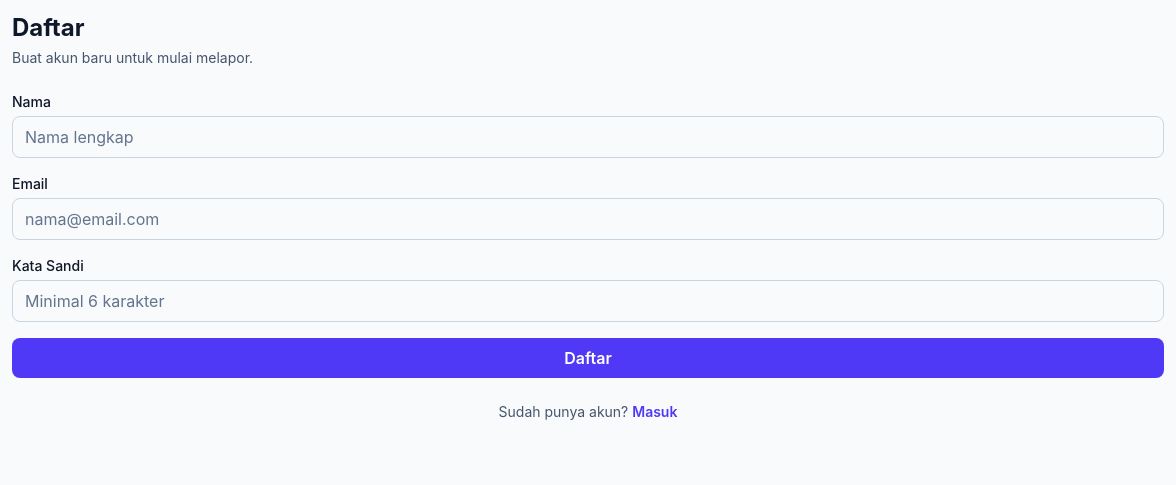
Test case: RegisterPage › menampilkan pesan error jika email tidak valid dan kata sandi terlalu pendek
Type "Budi" into the field labelled "Nama" at x=588, y=137, box [12,116,1164,158]
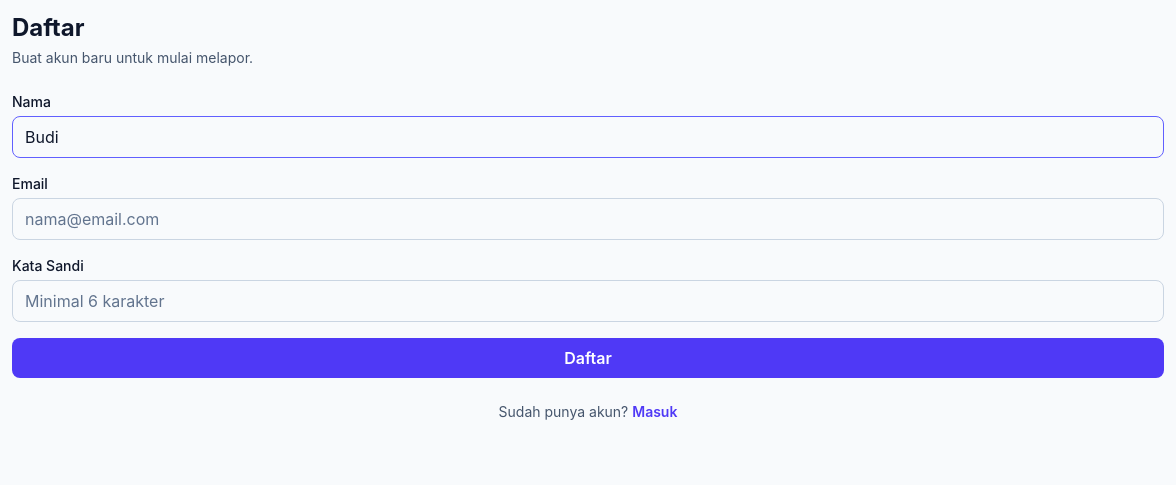
Type "bukan-email" into the field labelled "Email" at x=588, y=219, box [12,198,1164,240]
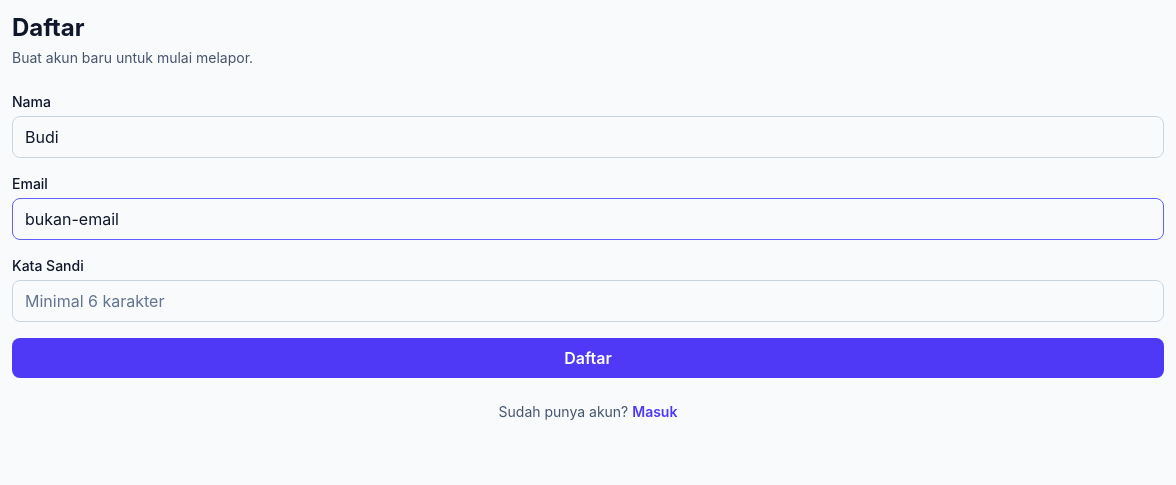
Type "123" into the password field labelled "Kata Sandi" at x=588, y=301, box [12,280,1164,322]
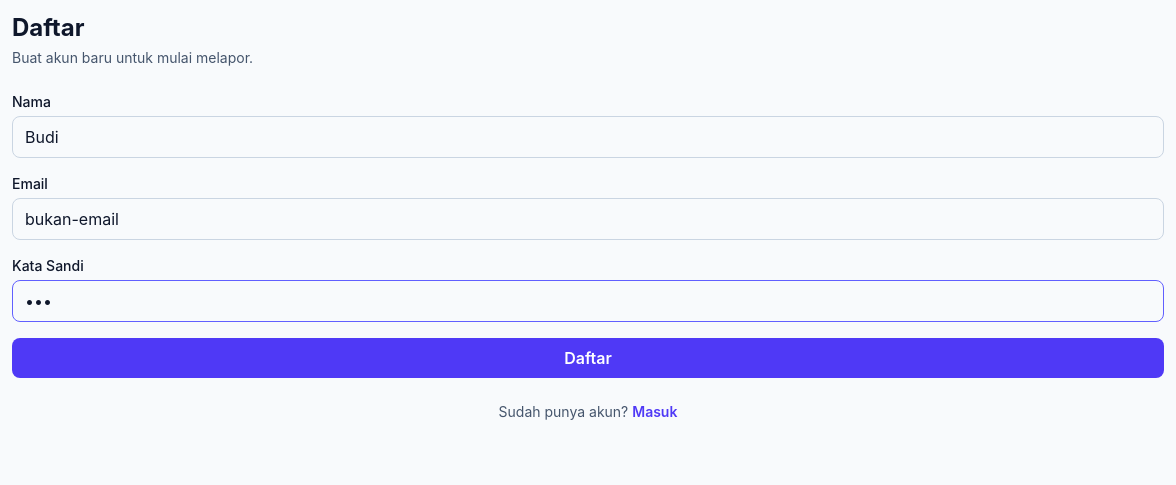
Click the button "Daftar" at x=588, y=358, box [12,338,1164,378]
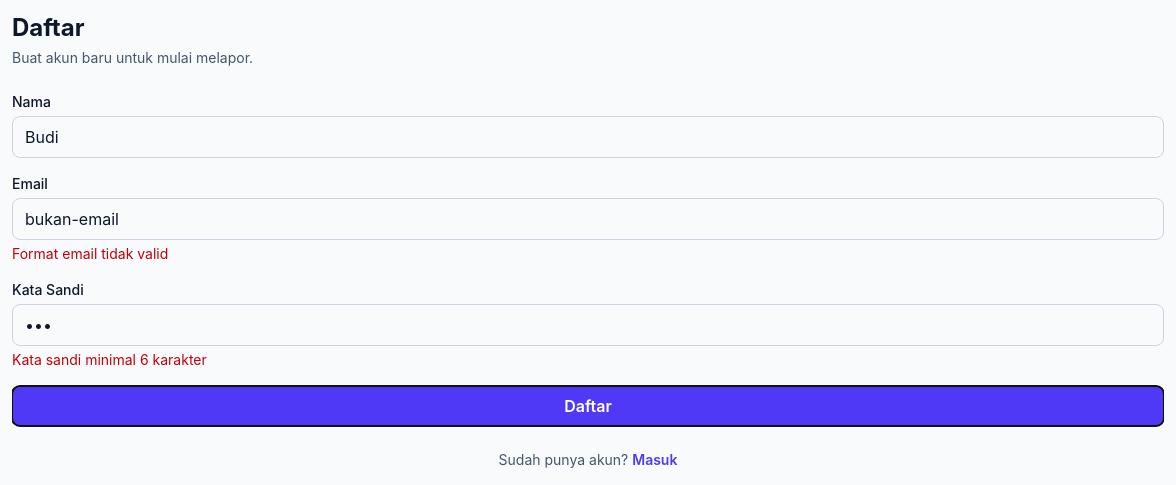
Expected: the text "Format email tidak valid" is shown, [12,245,168,262]
Expected: the text "Kata sandi minimal 6 karakter" is shown, [12,351,207,368]
